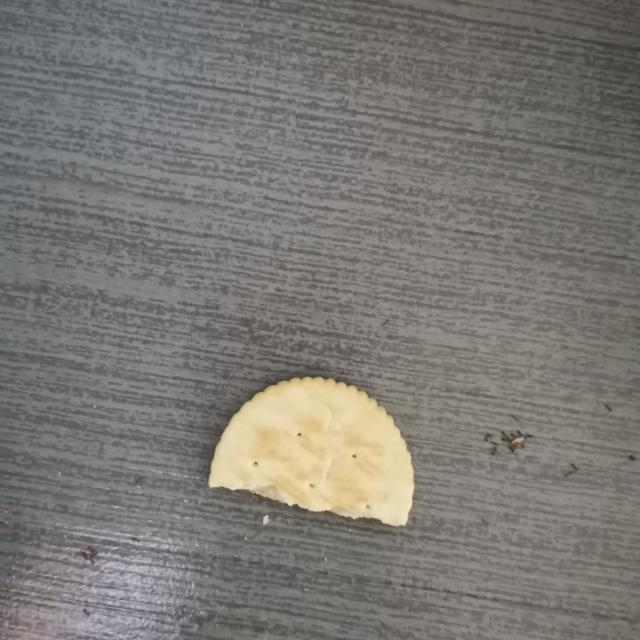Broken: (207, 375, 415, 528)
